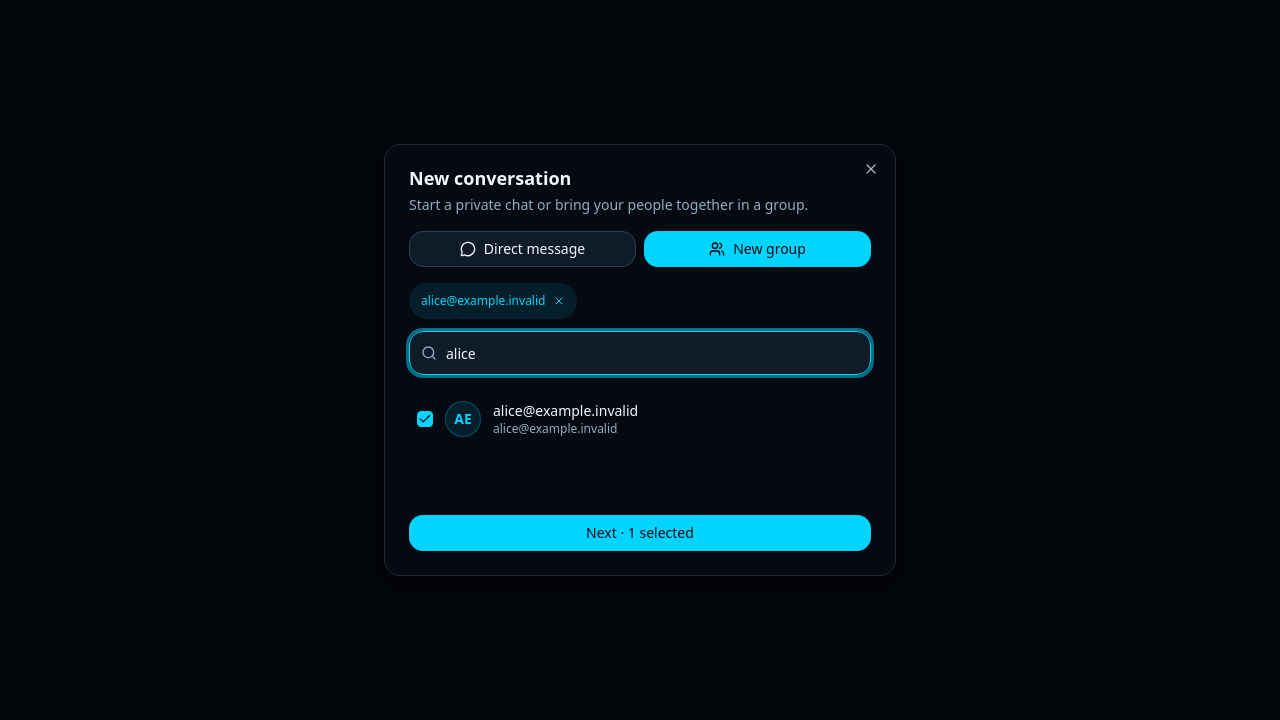
Test: group conversation UX › keeps people selected across searches, reviews the name and retries failed creation without losing inputs
Earlier steps of the test are not shown.
Replace the text in the field named "Search contacts by email" with "bob": (640, 353) top-left (409, 331), bottom-right (871, 375)
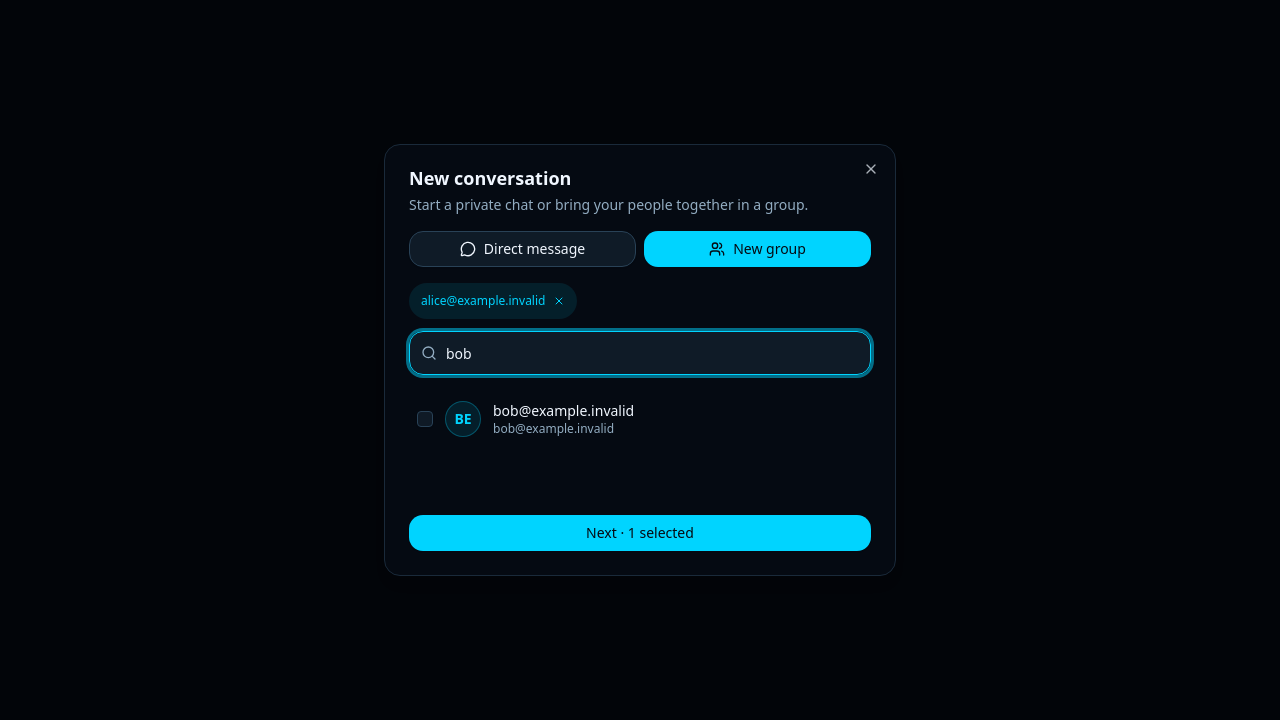
Click the checkbox: click(425, 419) top-left (417, 411), bottom-right (433, 427)
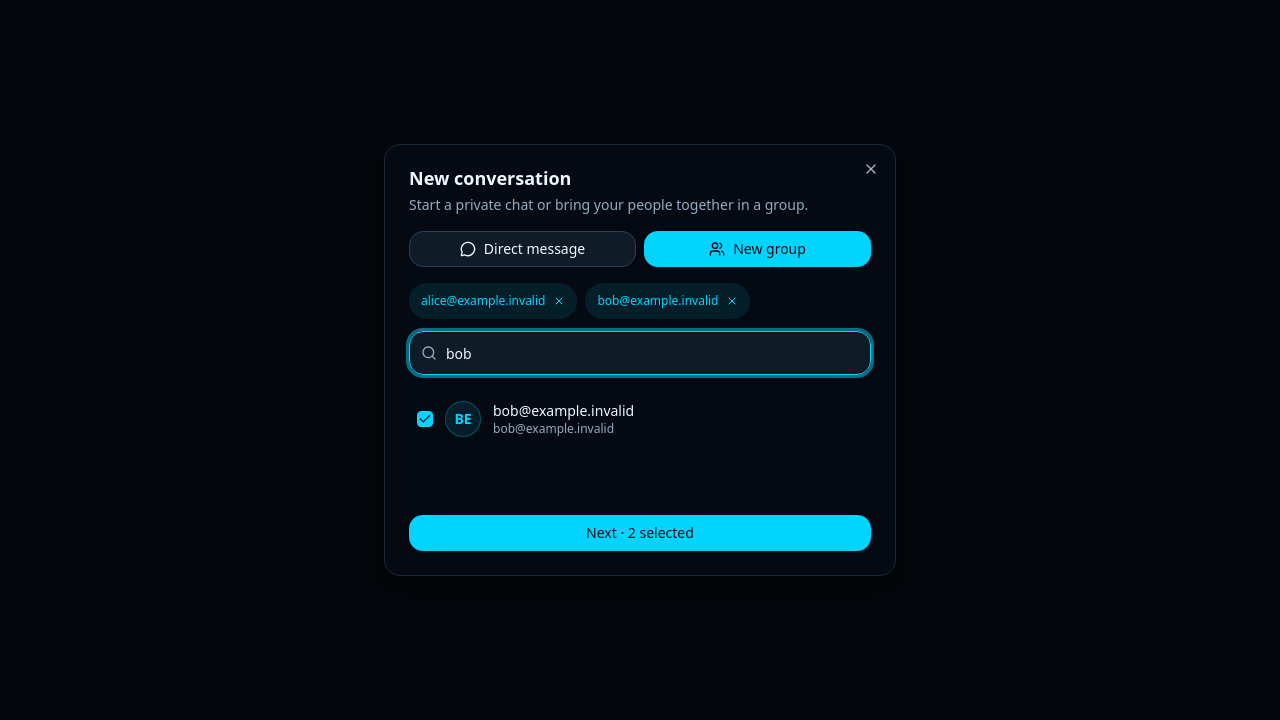
Click the button "Next · 2 selected": click(640, 533) top-left (409, 515), bottom-right (871, 551)
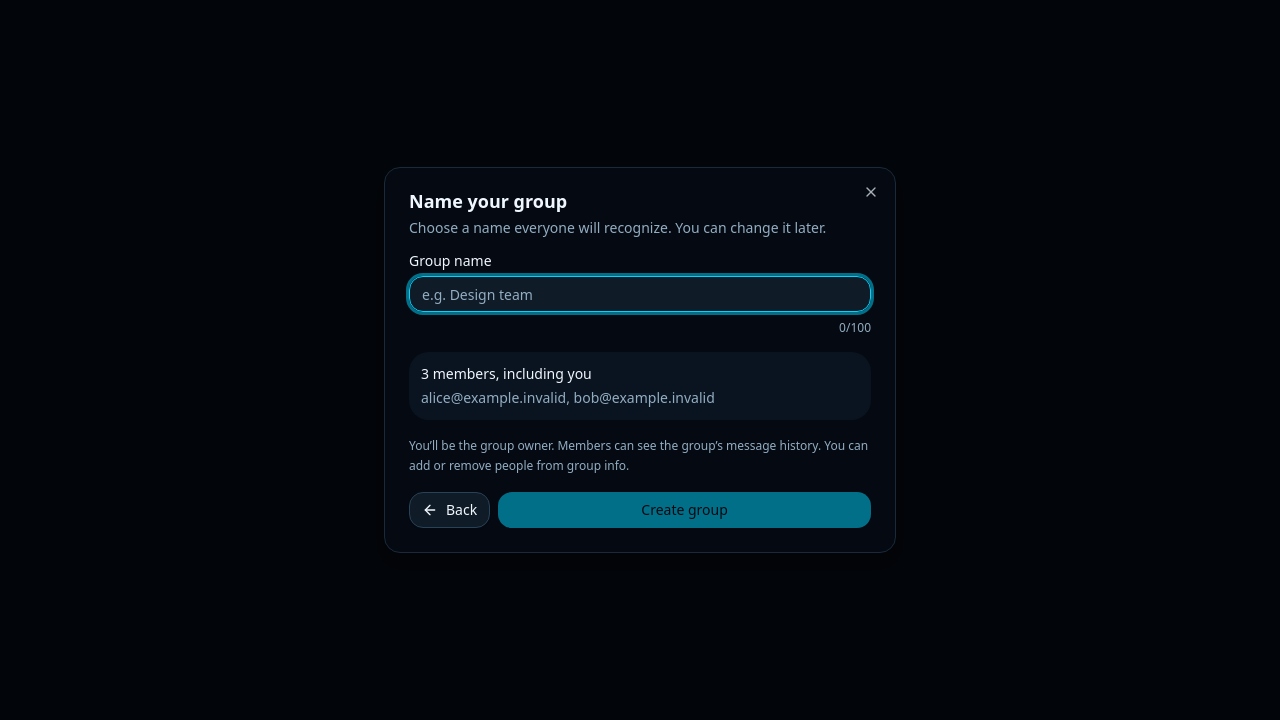
Now the text "3 members, including you" is shown, box top-left (421, 364), bottom-right (592, 383)
Now the button "Create group" is disabled, box top-left (498, 492), bottom-right (871, 528)
In the field labelled "Group name": (640, 294) top-left (409, 276), bottom-right (871, 312), type "  Product team  "
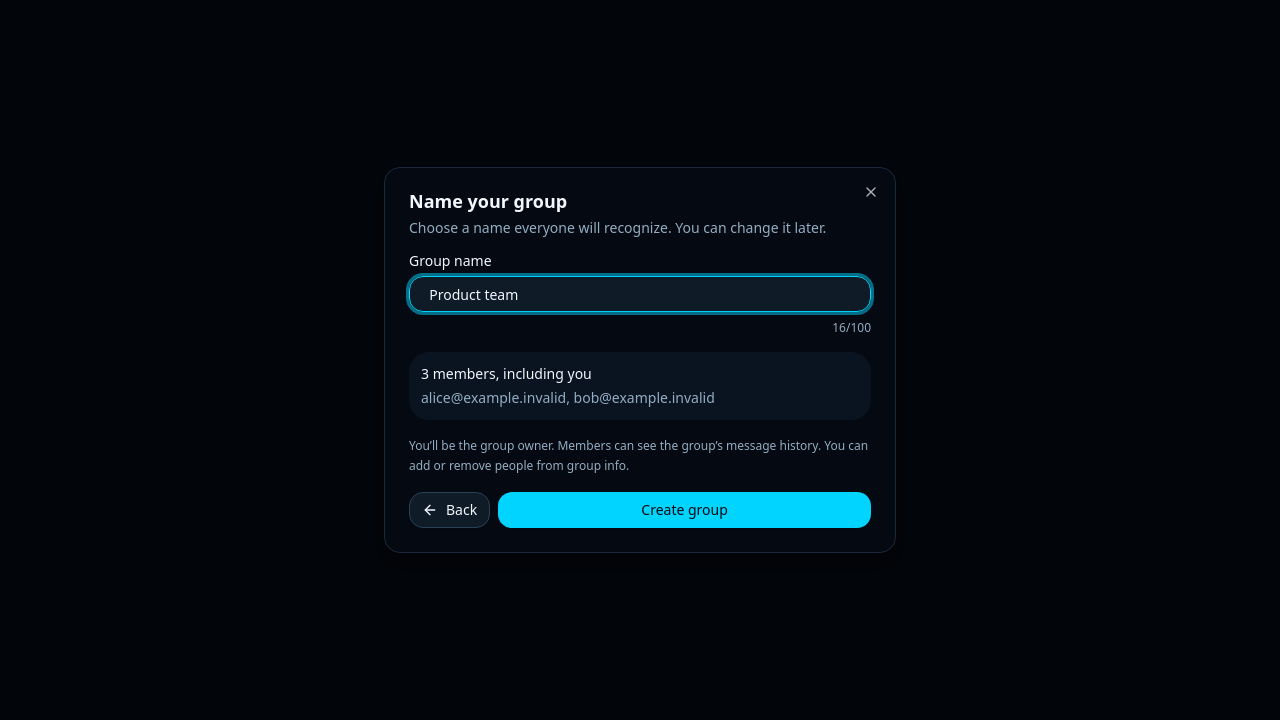
Click the button "Create group": click(685, 510) top-left (498, 492), bottom-right (871, 528)
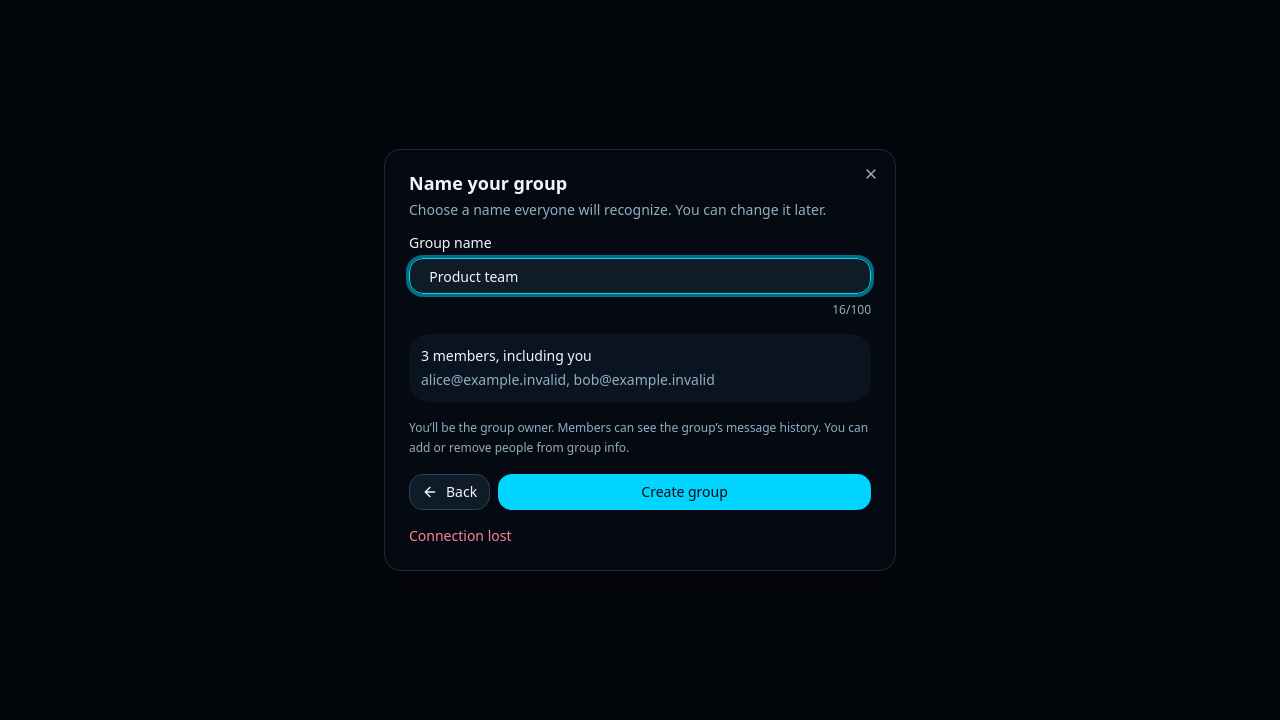
Now the message reads "Connection lost", box top-left (409, 526), bottom-right (512, 545)
Click the button "Create group": click(685, 492) top-left (498, 474), bottom-right (871, 510)
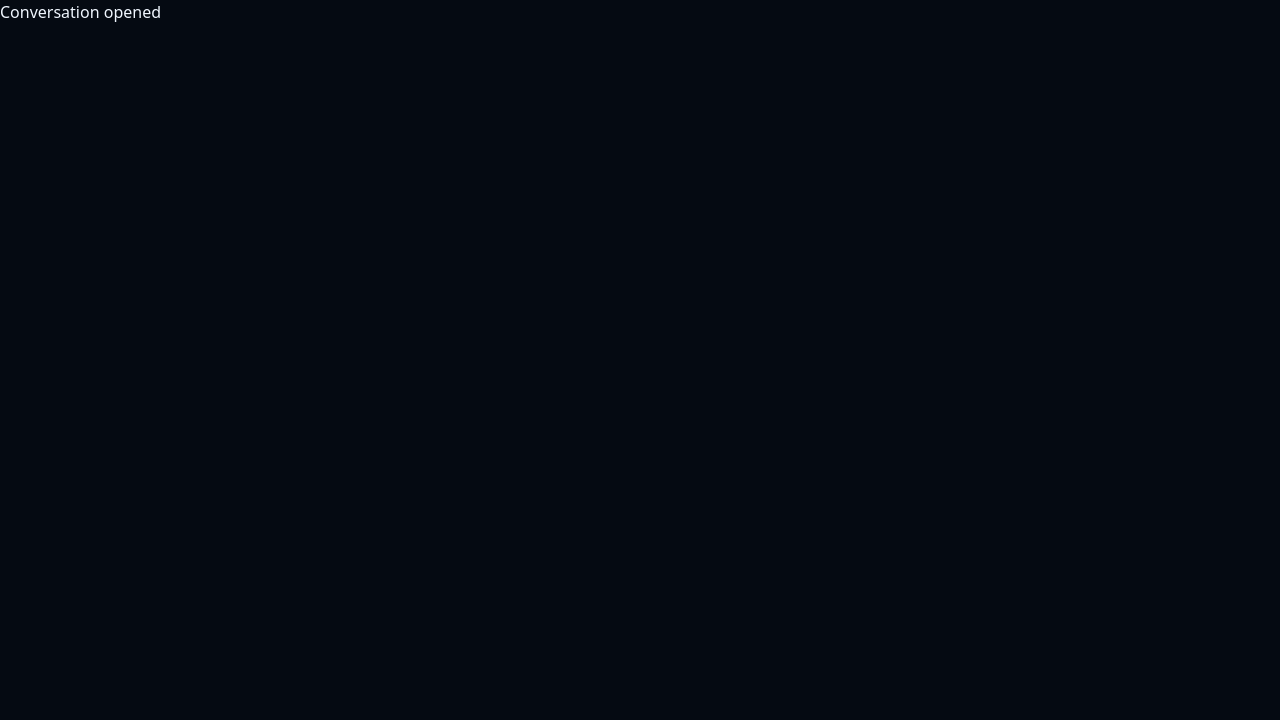
Now the text "Conversation opened" is shown, box top-left (0, 1), bottom-right (161, 23)
